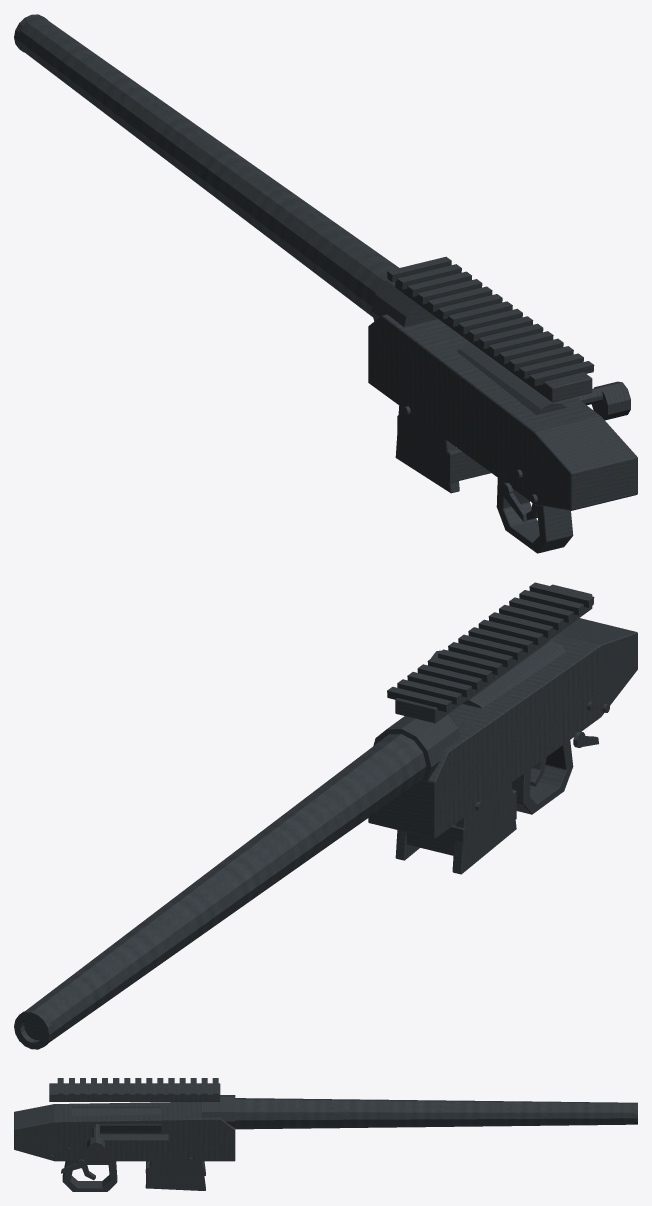
The model's file is weapon_sv98.glb.
The picture shows the model from 3 angles, top to bottom: view 1: azimuth 30°, elevation 25°; view 2: azimuth 150°, elevation 25°; view 3: azimuth 270°, elevation 25°; orthographic projection. The views are drawn at different scales.
Visible parts, largest first — view 1: body_LOD0, action_LOD0; view 2: body_LOD0, action_LOD0; view 3: body_LOD0, action_LOD0.
Part boxes in pixels (x1,y1,x2,y2): body_LOD0: [14, 14, 637, 553]; action_LOD0: [457, 343, 630, 420]; body_LOD0: [14, 582, 637, 1049]; action_LOD0: [431, 640, 566, 708]; body_LOD0: [14, 1078, 637, 1191]; action_LOD0: [72, 1107, 161, 1159].
Size of what is drawn, in the model's own units: 0.164 by 0.225 by 1.24.
1 material, 1 textured.
